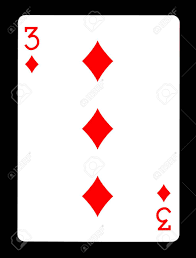three of diamonds: (18, 15, 177, 241)
